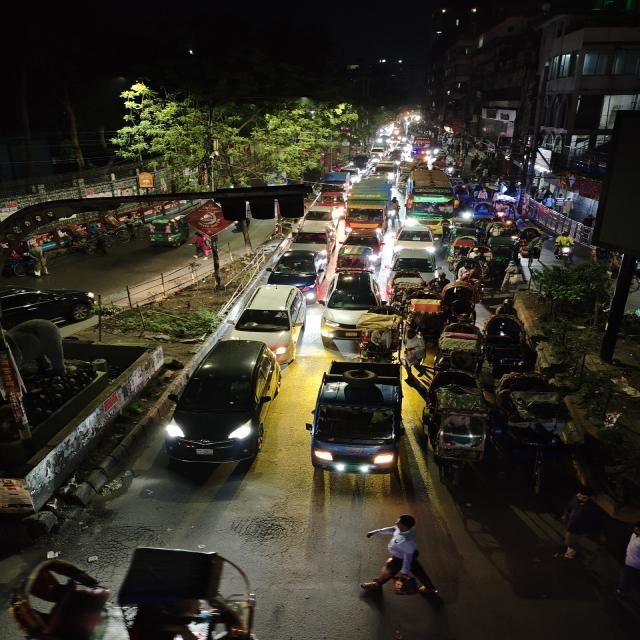bus: (402, 169, 459, 221), (409, 136, 432, 152)
car: (165, 337, 285, 471), (0, 286, 115, 337), (318, 268, 387, 338), (229, 284, 308, 344), (265, 247, 328, 289), (387, 224, 437, 257), (293, 209, 336, 236)
cng: (145, 215, 191, 248)
motorcycle: (552, 231, 579, 263)
pedestrian: (358, 511, 442, 599), (553, 491, 605, 563)
pickup_van: (293, 354, 409, 487)
rickshaw: (494, 368, 574, 494), (421, 388, 491, 474), (354, 307, 413, 365), (484, 312, 530, 366), (436, 322, 481, 363), (337, 234, 382, 272), (424, 284, 475, 317), (388, 268, 427, 300), (514, 227, 546, 260), (446, 234, 478, 264), (454, 258, 485, 284), (467, 200, 499, 222)
truck: (342, 177, 393, 236), (322, 172, 351, 194)
